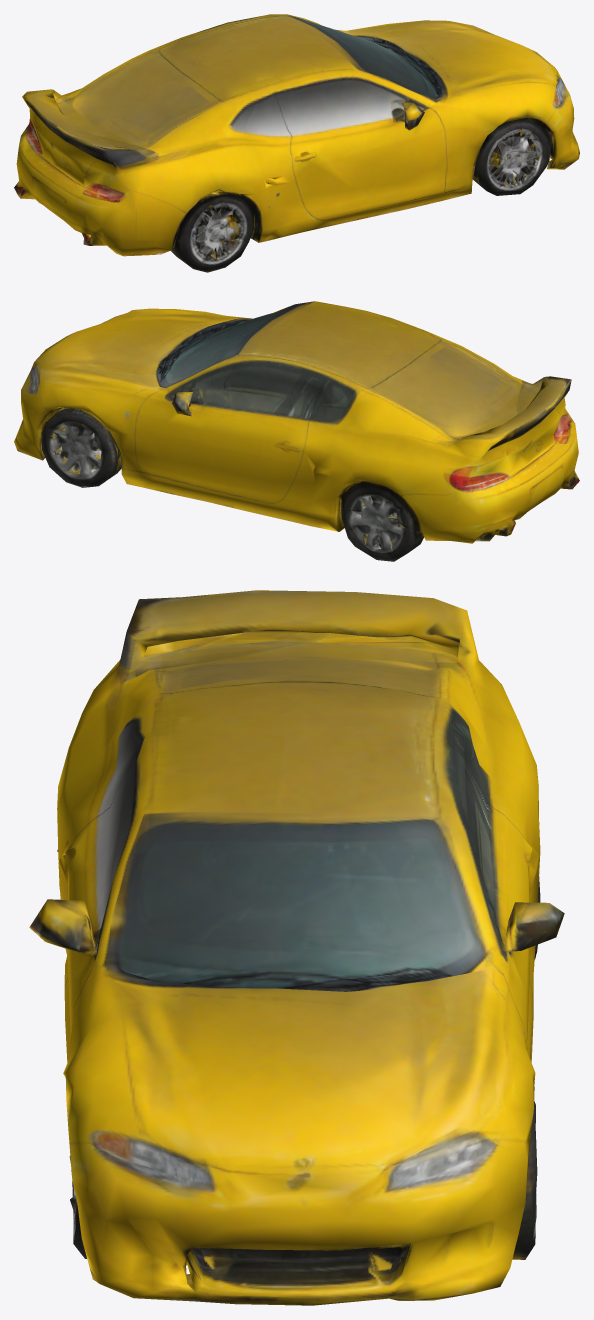
The model's file is Meshy_AI_car_0118000519_texture.fbx.
3 renders of one model, top to bottom at view 1: azimuth 30°, elevation 25°; view 2: azimuth 150°, elevation 25°; view 3: azimuth 270°, elevation 25°, orthographic. The views are drawn at different scales.
Visible parts, largest first — view 1: Mesh_0.003; view 2: Mesh_0.003; view 3: Mesh_0.003.
Boxes of the visible parts, x1,y1,x2,y2 form: Mesh_0.003: (14,14,579,272); Mesh_0.003: (14,301,579,561); Mesh_0.003: (29,590,564,1305).
Bounding box in the file's own units: 502 × 150 × 230.
Materials: 1 (1 with a texture image).
